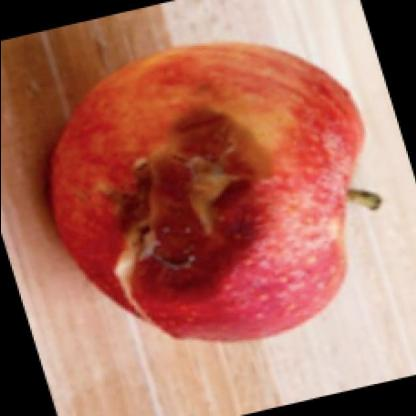defect: (84, 104, 278, 340)
